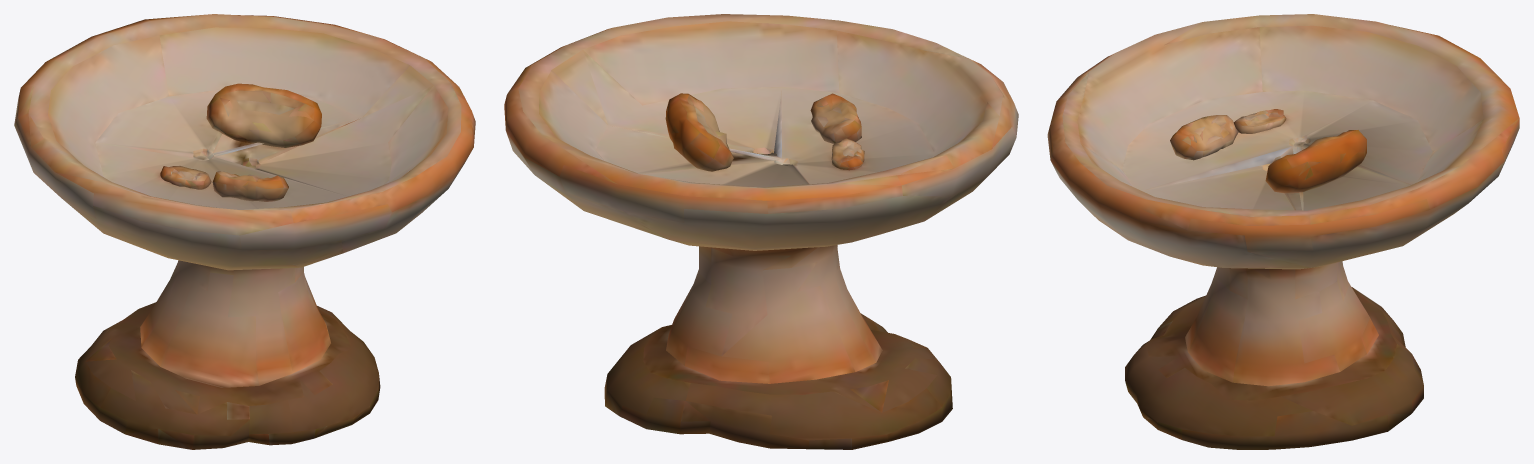
Rendered from wyn_quest_pantry_saucer.glb.
The picture shows the model from 3 angles, left to right: view 1: azimuth 30°, elevation 25°; view 2: azimuth 150°, elevation 25°; view 3: azimuth 270°, elevation 25°; orthographic projection. The views are drawn at different scales.
Parts seen in each view (by area): view 1: tripo_node_ecbca69f-8484-4554-8d69-853cc09cb053; view 2: tripo_node_ecbca69f-8484-4554-8d69-853cc09cb053; view 3: tripo_node_ecbca69f-8484-4554-8d69-853cc09cb053.
Part boxes in pixels (x1=…): tripo_node_ecbca69f-8484-4554-8d69-853cc09cb053: x1=14, y1=14, x2=475, y2=449; tripo_node_ecbca69f-8484-4554-8d69-853cc09cb053: x1=504, y1=14, x2=1018, y2=449; tripo_node_ecbca69f-8484-4554-8d69-853cc09cb053: x1=1047, y1=14, x2=1519, y2=449.
Size of the model in its own units: 0.1789 by 0.12 by 0.1755.
1 material, 1 textured.
